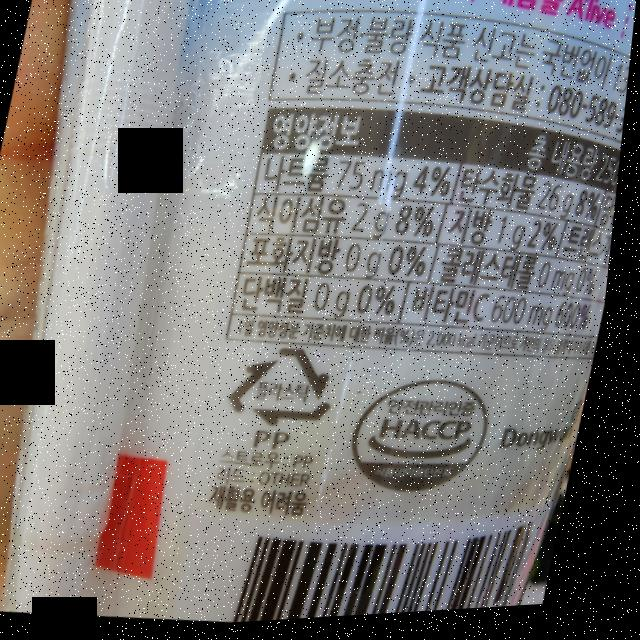Plastic: (227, 341, 354, 440)
